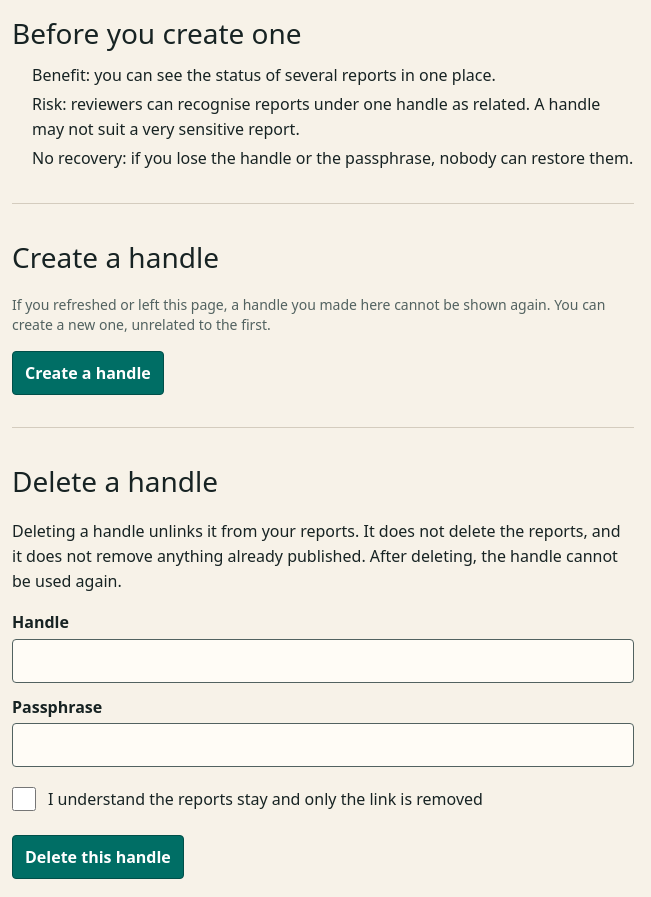
HandlePanel › creates a handle with one key, shows it once, and clears it on request without storing it
Click the button "Create a handle": point(88, 373) [12,351,164,395]
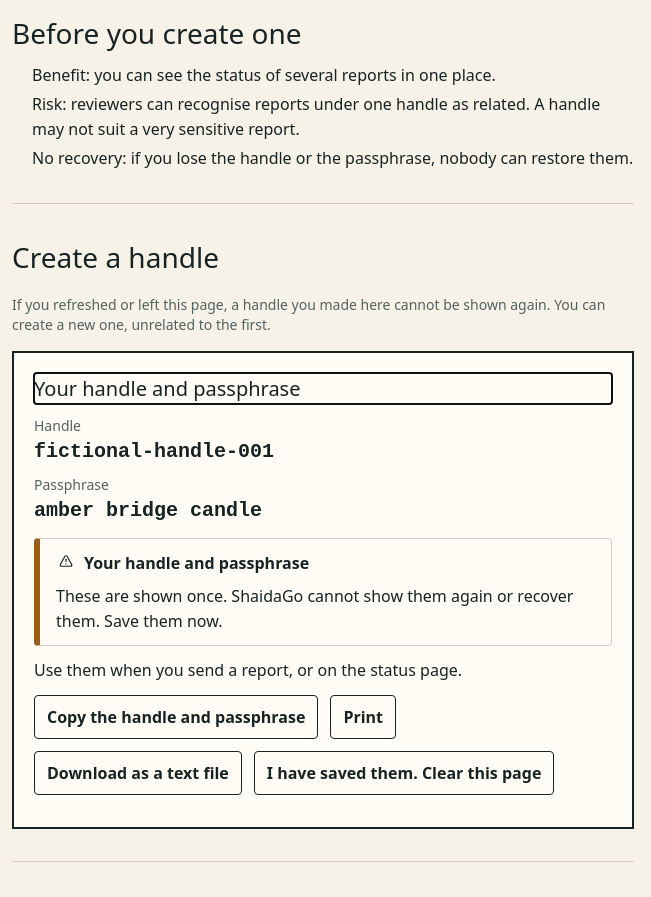
Result: the text "fictional-handle-001" is shown at [34,440,274,463]
Result: the text "amber bridge candle" is shown at [34,499,262,522]
Result: the text "These are shown once. ShaidaGo cannot show them again or recover them. Save them now." is shown at [56,585,574,632]
Click the button "I have saved them. Clear this page": point(404, 773) [254,751,554,795]
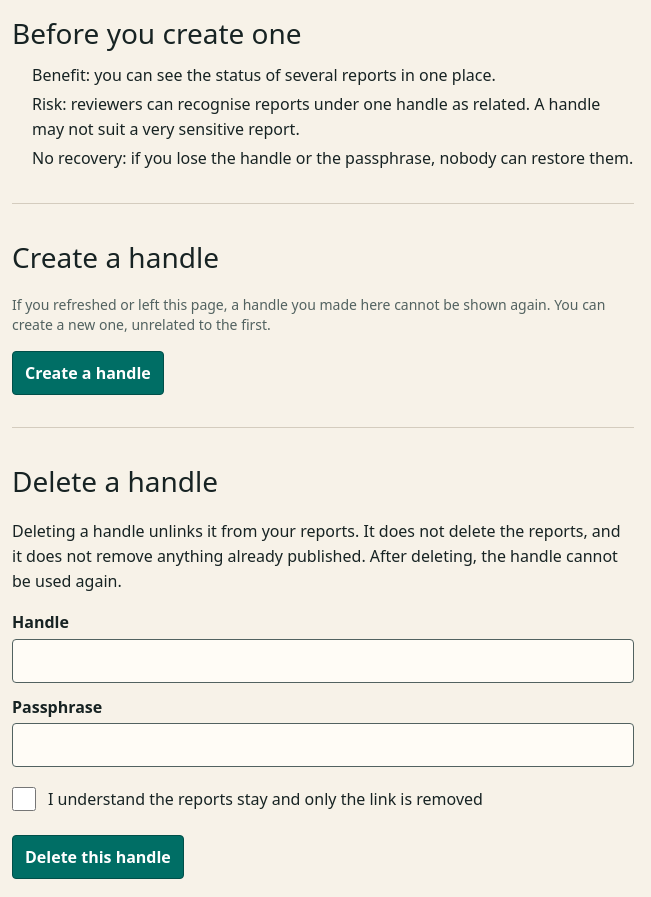
Result: the text "fictional-handle-001" is gone
